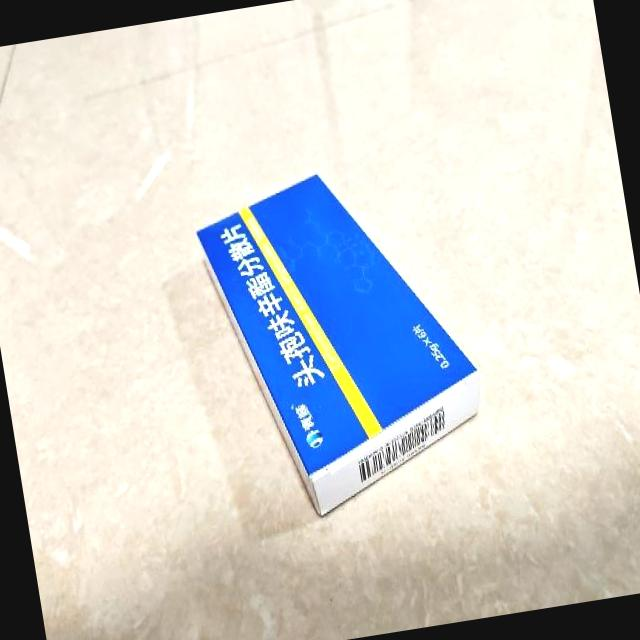box: (190, 151, 499, 530)
